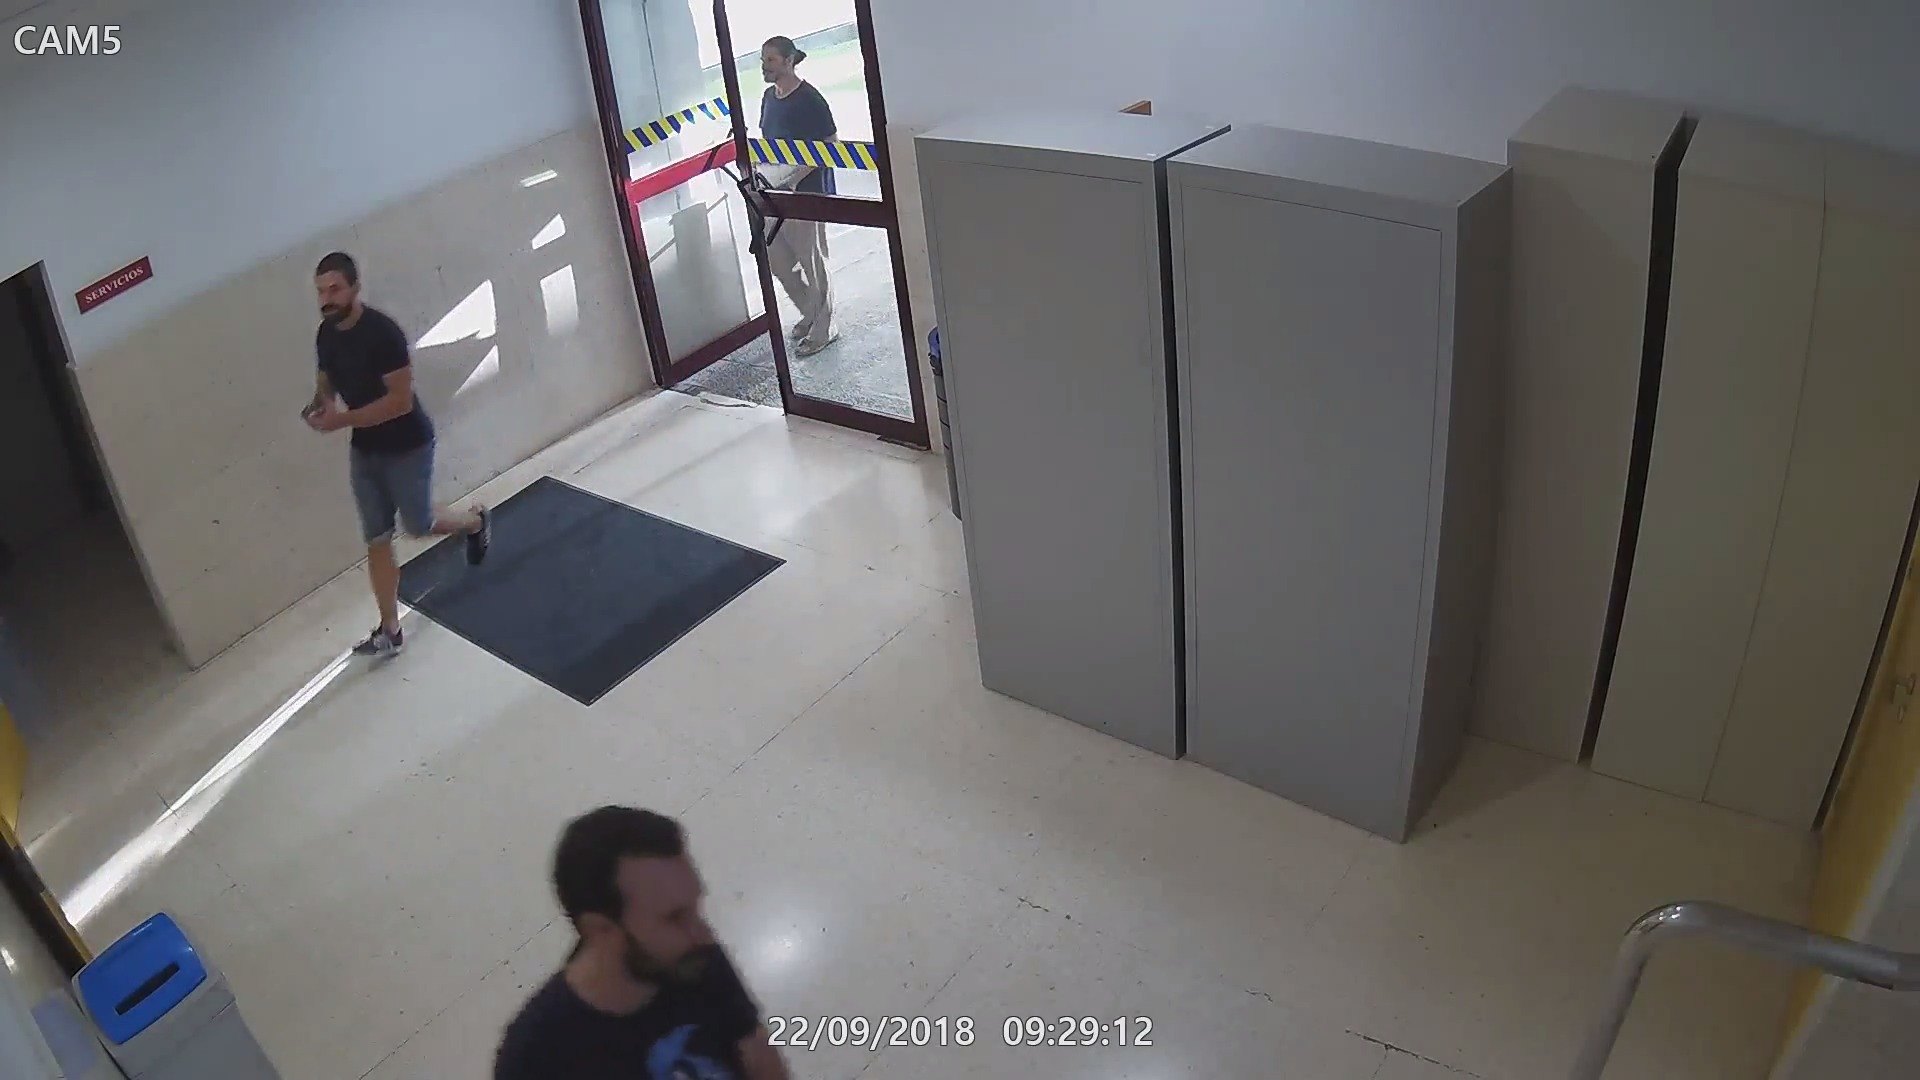Handgun: (301, 400, 342, 433)
